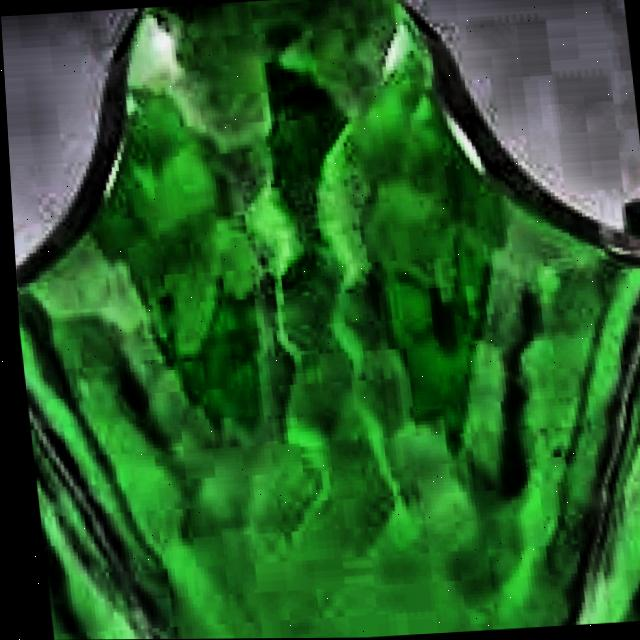glass: (12, 0, 640, 640)
